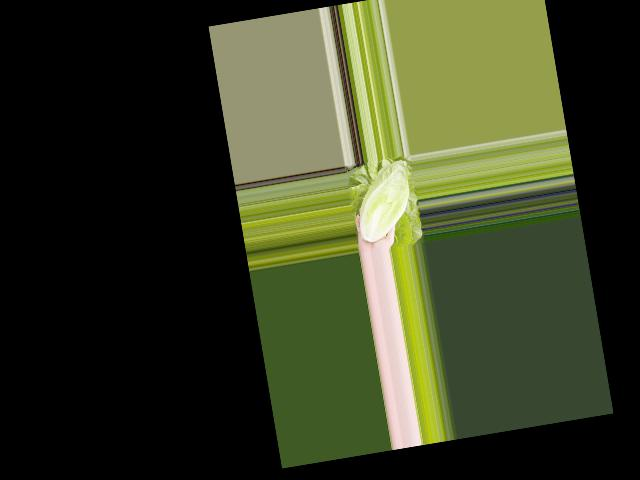lettuce: (347, 159, 419, 245)
